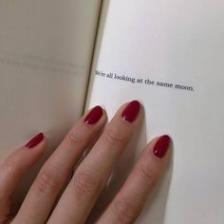red: (122, 101, 141, 122), (154, 136, 171, 158), (84, 106, 103, 125), (26, 133, 43, 149)
